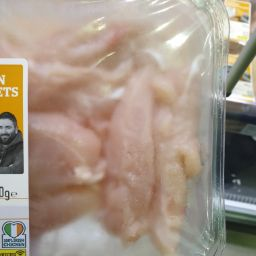Chicken Thigh Fillets: (31, 22, 195, 256), (113, 59, 191, 248), (39, 38, 149, 109), (39, 108, 105, 192)
